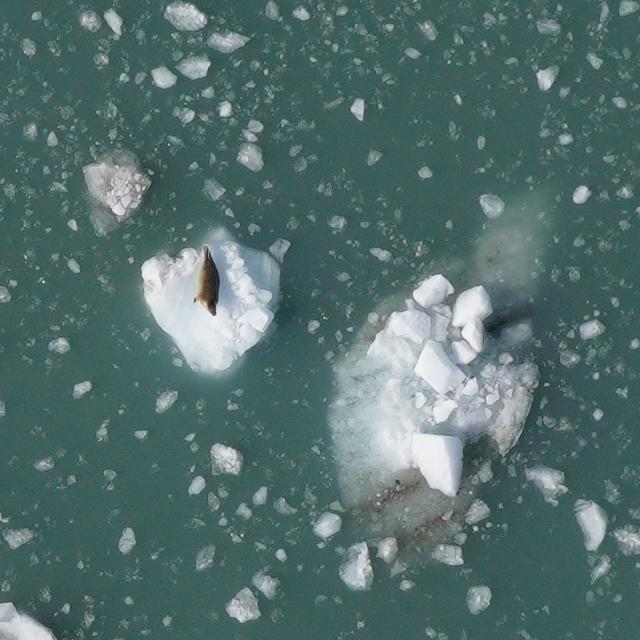seal: (188, 240, 224, 322)
